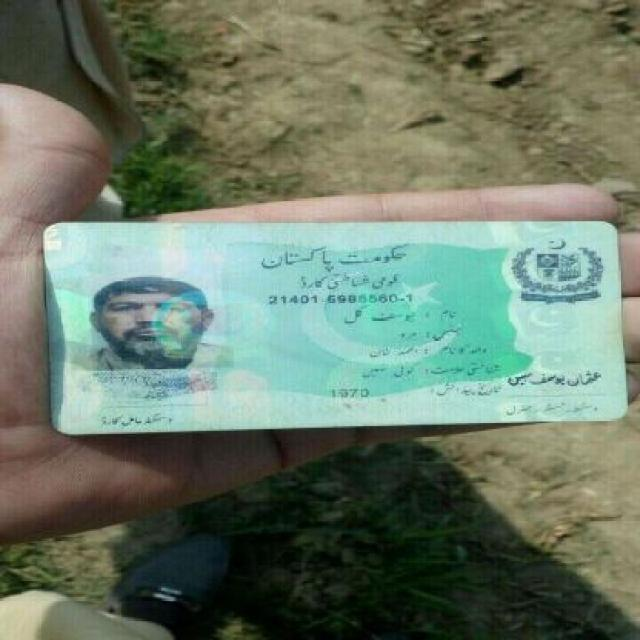Front: (22, 211, 629, 432)
